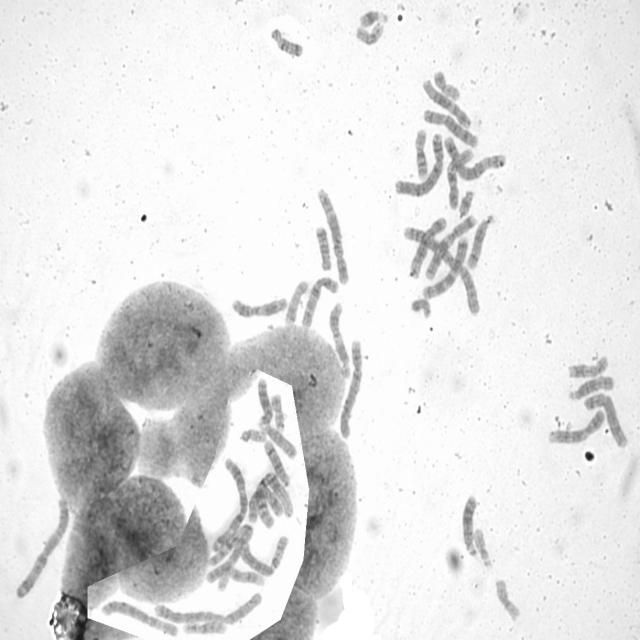A1: (210, 522, 257, 592), (248, 468, 296, 528)
A2: (400, 222, 483, 317), (151, 587, 266, 627)
A3: (13, 493, 71, 600), (207, 455, 248, 558)
B4: (393, 129, 445, 198), (336, 336, 364, 440)
B5: (314, 183, 350, 286), (442, 133, 507, 182)
C10: (298, 272, 339, 330), (444, 144, 475, 210)
C11: (327, 299, 352, 379), (228, 291, 290, 319)
C12: (406, 212, 449, 280), (421, 75, 474, 130)
C6: (100, 596, 180, 638), (238, 531, 290, 577)
C7: (424, 209, 479, 284), (420, 233, 470, 300)
C8: (582, 388, 629, 449), (420, 104, 480, 148)
C9: (546, 406, 607, 445), (203, 563, 266, 587)
D13: (459, 491, 480, 559), (254, 374, 274, 427)
D14: (465, 210, 497, 271), (262, 437, 292, 487)
D15: (258, 419, 298, 460), (566, 372, 616, 401)
E16: (412, 125, 430, 180), (181, 617, 228, 636)
E17: (282, 276, 310, 328), (565, 352, 610, 380)
E18: (268, 24, 305, 59), (313, 222, 334, 272)
F19: (492, 574, 522, 623), (353, 18, 386, 46)
F20: (431, 66, 462, 102), (269, 390, 286, 433)
G21: (356, 6, 389, 28), (456, 186, 475, 219)
G22: (471, 524, 493, 570), (238, 424, 268, 444)
X: (247, 480, 284, 526)
Y: (409, 295, 432, 320)
